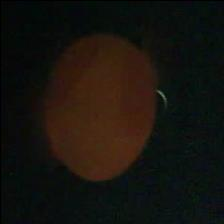fertile: (41, 28, 158, 182)
